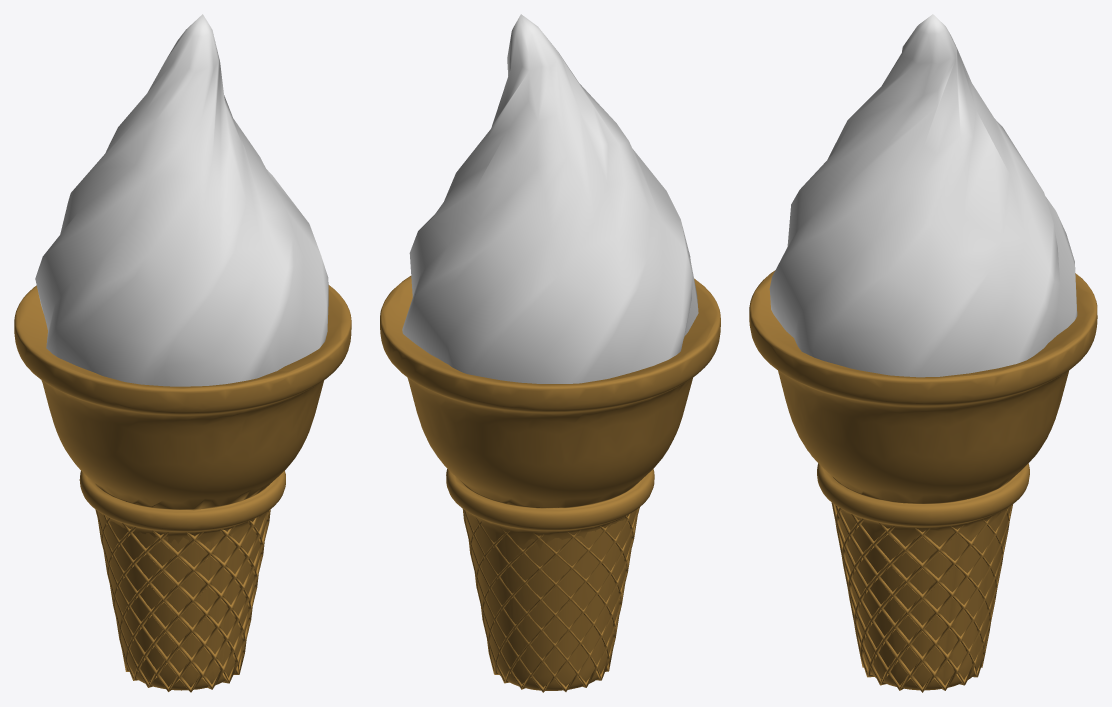
The model's file is softcream.glb.
3 views of the same model, side by side, from view 1: azimuth 30°, elevation 25°; view 2: azimuth 150°, elevation 25°; view 3: azimuth 270°, elevation 25° (orthographic). The views are drawn at different scales.
Size of the model in its own units: 0.1751 by 0.3712 by 0.175.
